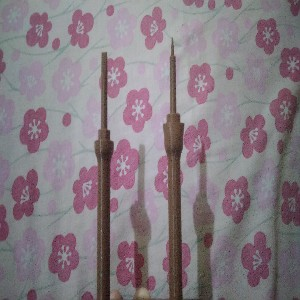obeng: (94, 51, 115, 300)
solder: (162, 35, 185, 300)
